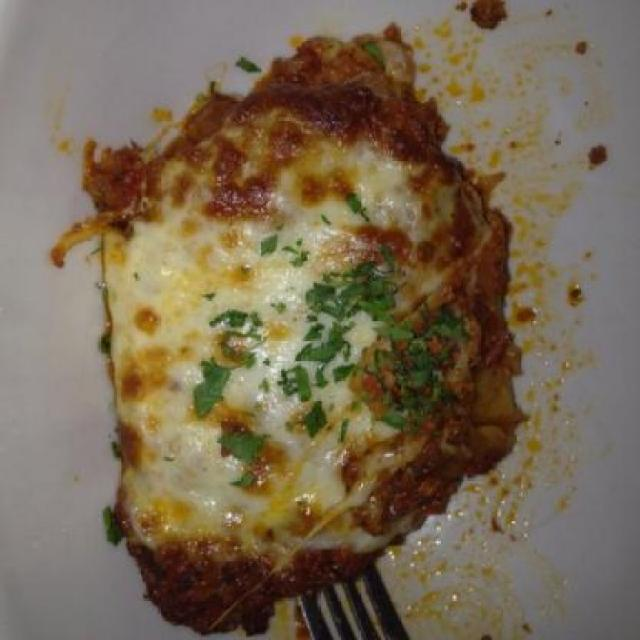Lasagna: (66, 54, 577, 598)
